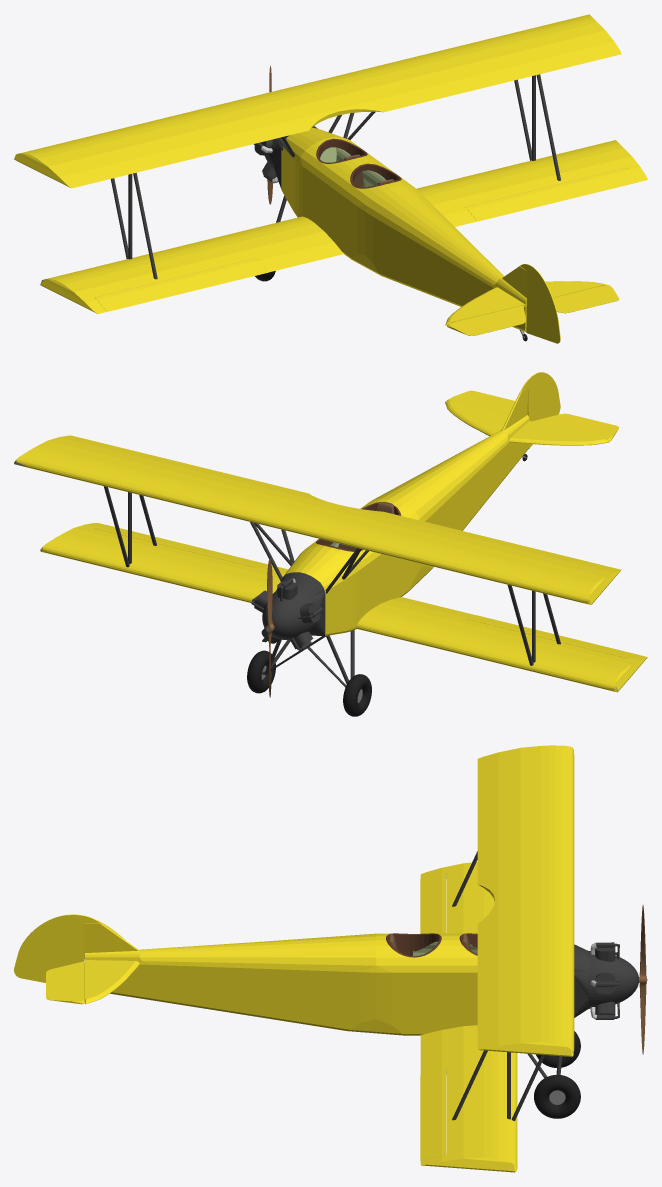
The model's file is BiplaneYellow.fbx.
3 views of the same model, one above another, from view 1: azimuth 30°, elevation 25°; view 2: azimuth 150°, elevation 25°; view 3: azimuth 270°, elevation 25° (orthographic). The views are drawn at different scales.
Visible parts, largest first — view 1: Cube, Cube.002, Cube.001, Cube.004, Cube.005; view 2: Cube, Cube.004, Cube.005, Cube.001, Cube.002, Cube.006, Cube.007, Cube.009, Cube.003; view 3: Cube, Cube.005, Cube.002, Cube.007, Cube.001, Cube.004, Cube.003.
Part boxes in pixels (<box>): Cube: <box>14,14,647,338</box>; Cube.002: <box>465,168,638,221</box>; Cube.001: <box>95,258,267,311</box>; Cube.004: <box>447,285,618,335</box>; Cube.005: <box>520,264,560,343</box>; Cube: <box>14,387,647,692</box>; Cube.004: <box>447,390,618,441</box>; Cube.005: <box>520,372,560,448</box>; Cube.001: <box>465,615,638,658</box>; Cube.002: <box>95,525,267,567</box>; Cube.006: <box>343,674,371,716</box>; Cube.007: <box>247,650,275,693</box>; Cube.009: <box>307,630,354,687</box>; Cube.003: <box>265,558,274,697</box>; Cube: <box>85,745,647,1172</box>; Cube.005: <box>14,914,100,982</box>; Cube.002: <box>420,1069,446,1160</box>; Cube.007: <box>534,1074,580,1118</box>; Cube.001: <box>420,873,446,933</box>; Cube.004: <box>46,923,84,1004</box>; Cube.003: <box>639,905,646,1054</box>.
Bounding box in the file's own units: 1002 × 304 × 878.
